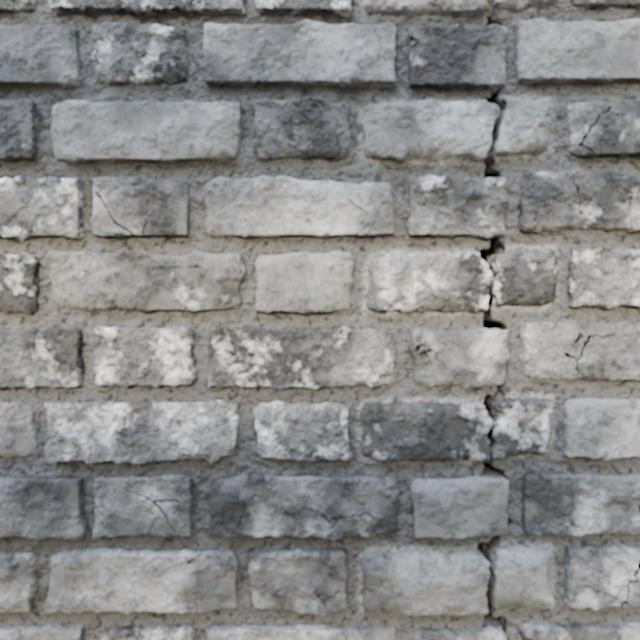broken_brick: (362, 99, 498, 161), (359, 400, 492, 463), (361, 551, 489, 615), (366, 251, 492, 312), (495, 246, 558, 306), (492, 398, 554, 458), (495, 547, 554, 609), (496, 96, 555, 156), (365, 0, 486, 15), (496, 0, 556, 11)
crack: (406, 0, 512, 639), (203, 19, 396, 87), (208, 473, 399, 541), (45, 548, 238, 614), (44, 400, 238, 464), (47, 250, 245, 312), (51, 100, 242, 163), (207, 326, 397, 389), (204, 176, 393, 237), (515, 19, 639, 84), (518, 169, 639, 233), (522, 472, 639, 536), (520, 320, 639, 381), (248, 547, 347, 616), (92, 325, 196, 387), (93, 474, 193, 538), (253, 97, 350, 161), (91, 22, 190, 84), (255, 252, 353, 313), (253, 401, 351, 462), (91, 177, 189, 237), (0, 477, 86, 540), (0, 176, 83, 240), (0, 327, 83, 388), (564, 543, 639, 609), (0, 25, 79, 87), (563, 398, 639, 460), (568, 247, 639, 308), (567, 100, 639, 159), (49, 0, 246, 15), (206, 624, 395, 639), (0, 253, 39, 314), (0, 552, 38, 612), (0, 99, 37, 160), (0, 400, 36, 456), (521, 622, 639, 639), (255, 0, 353, 17), (99, 624, 196, 639), (0, 624, 83, 639), (570, 0, 639, 9), (0, 0, 36, 12), (363, 588, 364, 610), (504, 606, 521, 607)
